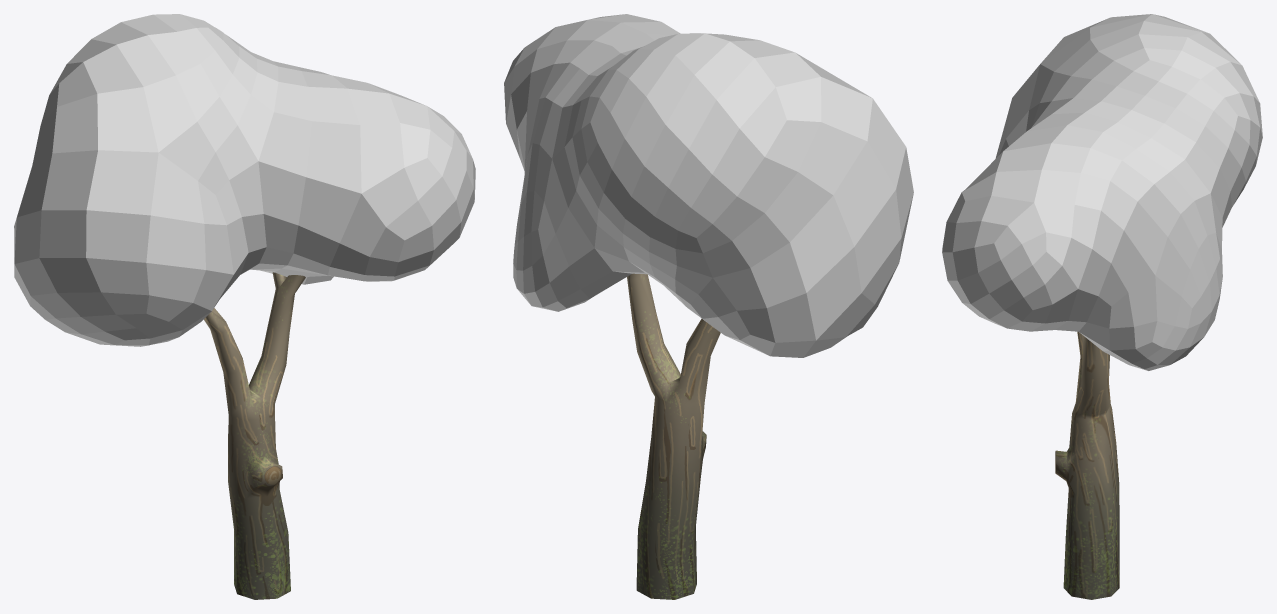
File: Oak.fbx
3 renders of one model, left to right at view 1: azimuth 30°, elevation 25°; view 2: azimuth 150°, elevation 25°; view 3: azimuth 270°, elevation 25°, orthographic. The views are drawn at different scales.
Parts seen in each view (by area): view 1: oak_crown, oak_trunk, oak_stump; view 2: oak_crown, oak_trunk, oak_stump; view 3: oak_crown, oak_trunk, oak_stump.
Part boxes in pixels (x1=…): oak_crown: x1=14, y1=14, x2=475, y2=346; oak_trunk: x1=204, y1=272, x2=305, y2=599; oak_stump: x1=234, y1=553, x2=290, y2=599; oak_crown: x1=504, y1=14, x2=913, y2=357; oak_trunk: x1=627, y1=273, x2=720, y2=599; oak_stump: x1=650, y1=555, x2=696, y2=598; oak_crown: x1=942, y1=14, x2=1262, y2=370; oak_trunk: x1=1055, y1=331, x2=1119, y2=598; oak_stump: x1=1064, y1=557, x2=1111, y2=599.
Bounding box in the file's own units: 380 × 506 × 279.
